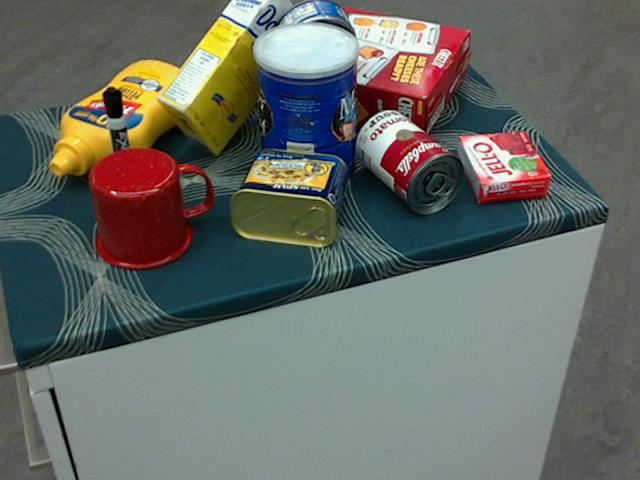cracker_box: (245, 0, 467, 145)
gelatin_box: (455, 132, 550, 202)
large_marker: (100, 87, 138, 197)
master_chef_can: (253, 22, 359, 193)
mug: (89, 146, 213, 269)
mustard_bottle: (48, 61, 199, 176)
potted_meat_can: (229, 148, 346, 246)
sugar_box: (156, 0, 306, 157)
tomato_soup_can: (355, 109, 464, 213)
tuna_fish_can: (272, 0, 356, 81)
